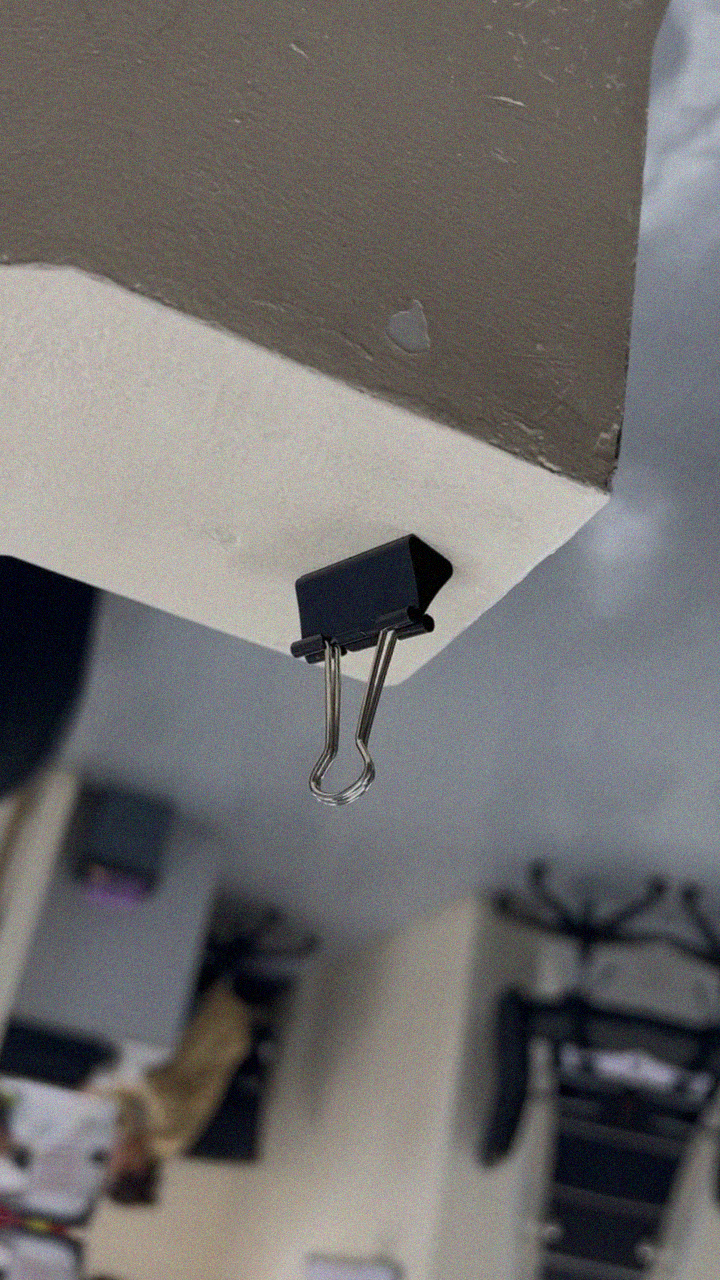kep_giay: (239, 505, 468, 824)
